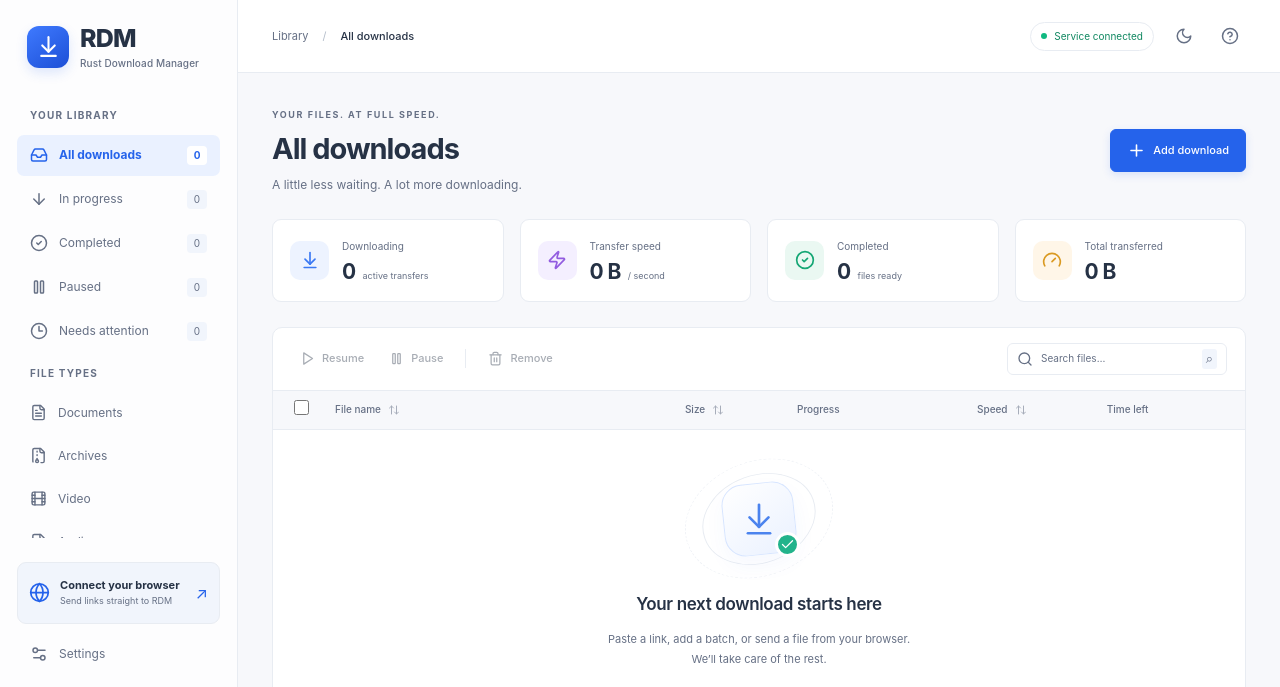
it: download manager › shows browser setup instructions
Click the button "Connect your browser Send links straight to RDM ↗".
click(118, 592)  # box [17, 562, 220, 624]
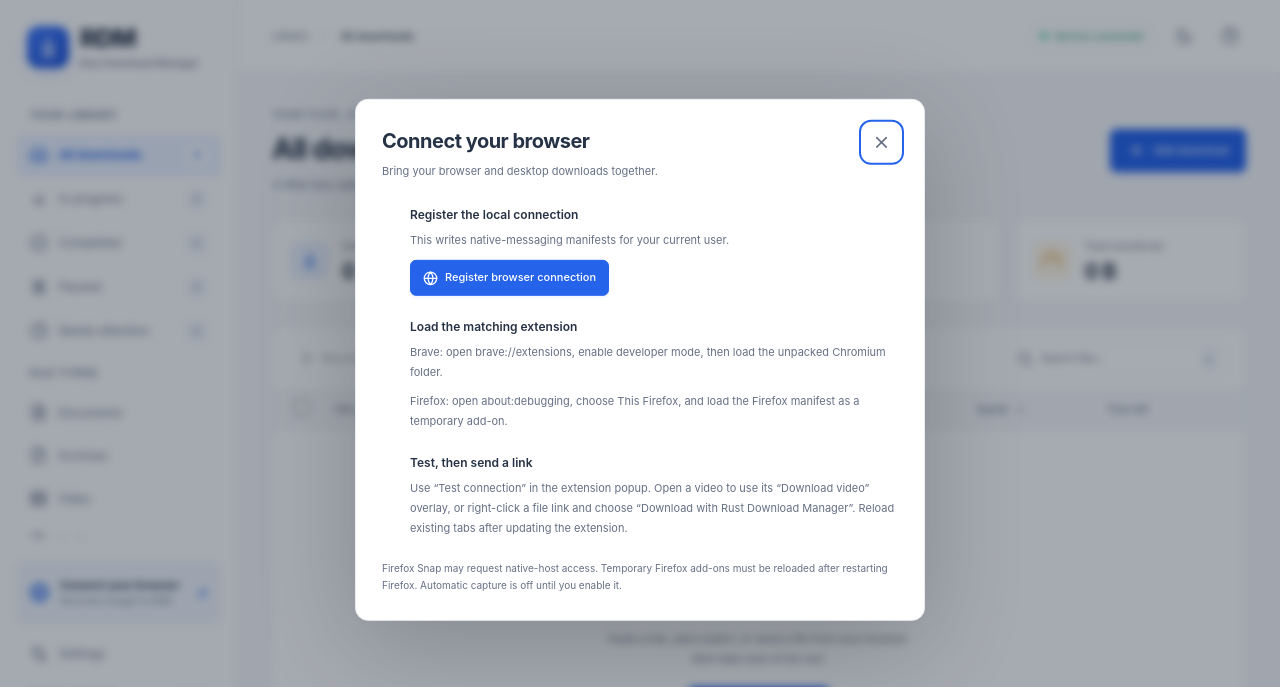
Check: the button "Register browser connection" is shown, box [410, 260, 609, 296]
